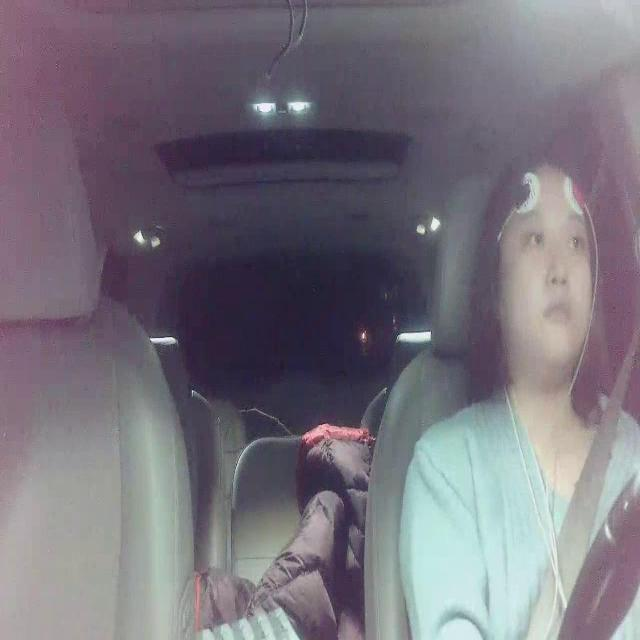Attentive: (484, 141, 607, 370)
